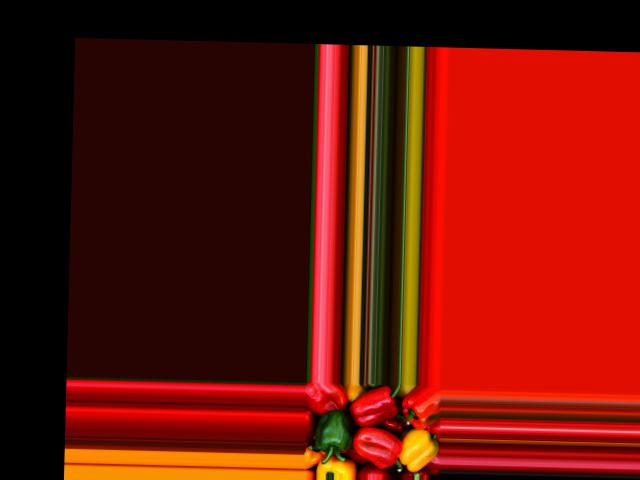bell_pepper: (396, 424, 439, 474)
